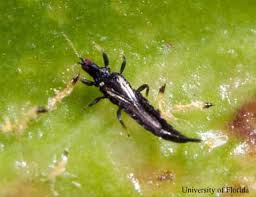Phlaeothripidae: (74, 51, 204, 147)
